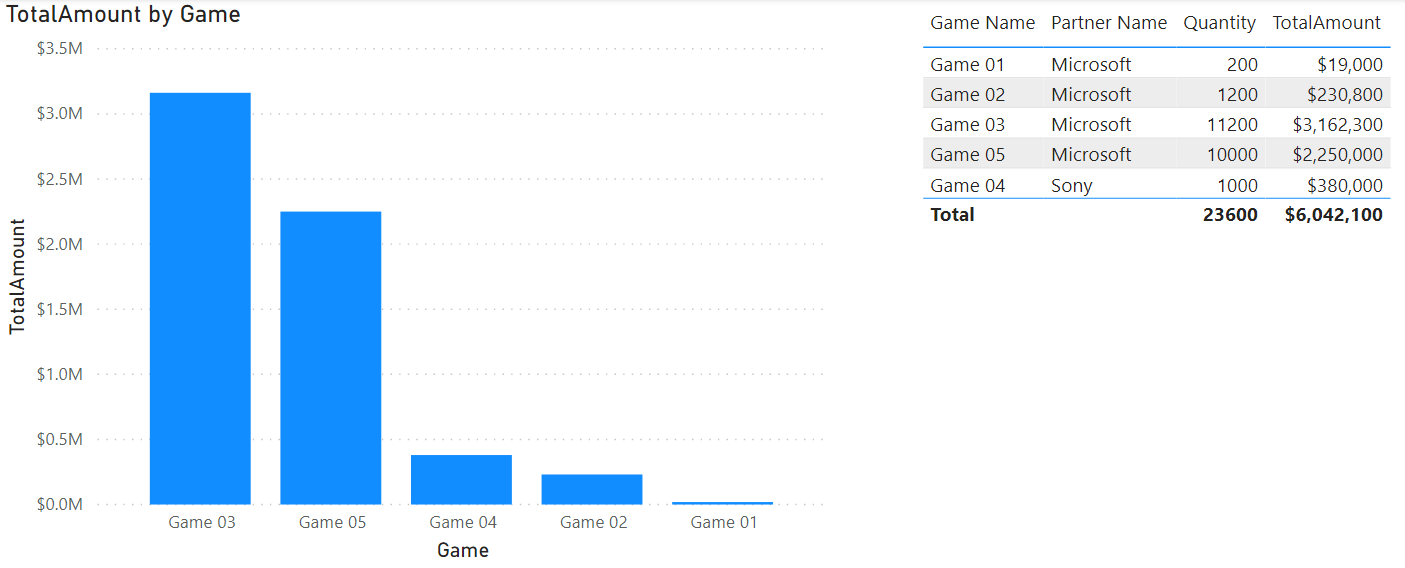

What the dashboard file says about the page in this screenshot:
{"tool":"powerbi","page":{"name":"Page 1","canvas":[1280,720],"ordinal":0},"visuals":[{"type":"clusteredColumnChart","fields":{"Y":["Sum(gameDW FactSales.TotalAmount)"],"Category":["gameDW DimGame.Name"]},"box":[10.4,0,583.3,395.5],"z":0},{"type":"tableEx","fields":{"Values":["gameDW DimGame.Name","gameDW DimPartner.Name","Sum(gameDW FactSales.Quantity)","Sum(gameDW FactSales.TotalAmount)"]},"box":[648,0,582.3,315.1],"z":1}]}

Visuals, with their boxes on the page's 1280x720 design canvas (x1, y1, x2, y2). These are canvas units, not pixel positions in the 1405x568 screenshot, which may show the page scaled, cropped or inside an application window:
clusteredColumnChart - Sum(gameDW FactSales.TotalAmount) x gameDW DimGame.Name: [left=10, top=0, right=594, bottom=396]
tableEx - gameDW DimGame.Name x gameDW DimPartner.Name: [left=648, top=0, right=1230, bottom=315]
